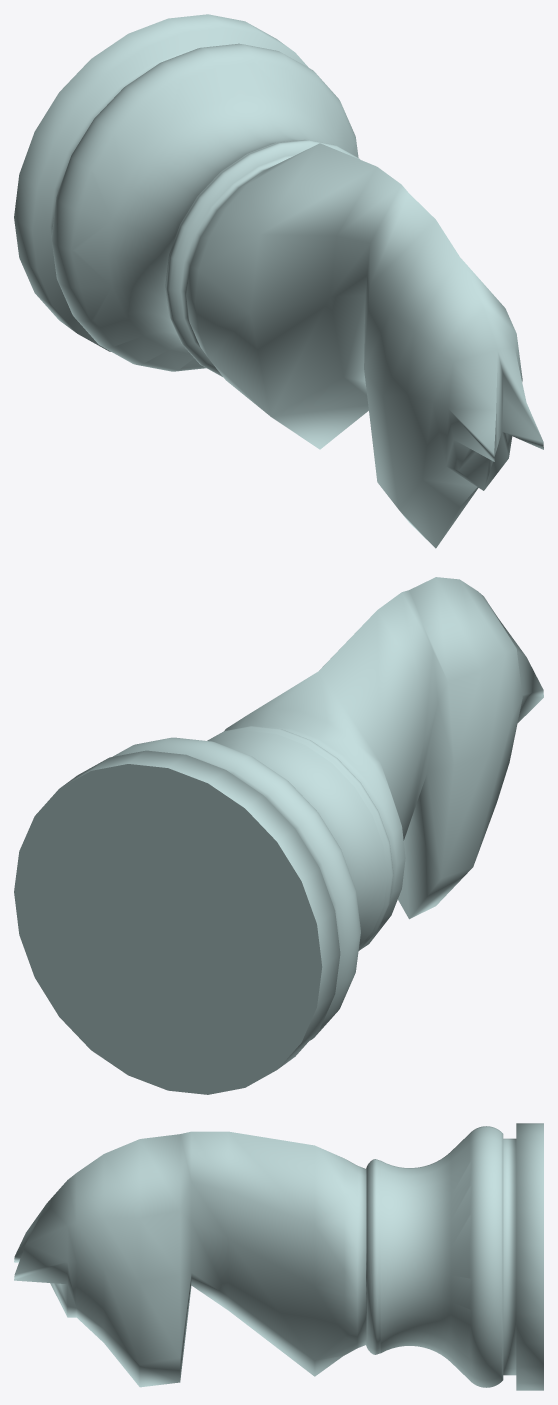
Rendered from WhiteKnight.obj.
3 renders of one model, top to bottom at view 1: azimuth 30°, elevation 25°; view 2: azimuth 150°, elevation 25°; view 3: azimuth 270°, elevation 25°, orthographic. The views are drawn at different scales.
Parts seen in each view (by area): view 1: Mesh1 Agrupar_4_1 Group1 Model, Mesh2 Componente_1_1 Group1 Model; view 2: Mesh2 Componente_1_1 Group1 Model, Mesh1 Agrupar_4_1 Group1 Model; view 3: Mesh1 Agrupar_4_1 Group1 Model, Mesh2 Componente_1_1 Group1 Model.
Part boxes in pixels (bbox=[...]): Mesh1 Agrupar_4_1 Group1 Model: bbox=[165, 139, 543, 548]; Mesh2 Componente_1_1 Group1 Model: bbox=[14, 14, 358, 371]; Mesh2 Componente_1_1 Group1 Model: bbox=[14, 731, 387, 1094]; Mesh1 Agrupar_4_1 Group1 Model: bbox=[207, 577, 543, 950]; Mesh1 Agrupar_4_1 Group1 Model: bbox=[14, 1131, 380, 1387]; Mesh2 Componente_1_1 Group1 Model: bbox=[380, 1123, 543, 1390].
Size of the model in its own units: 58.14 by 61.11 by 115.
